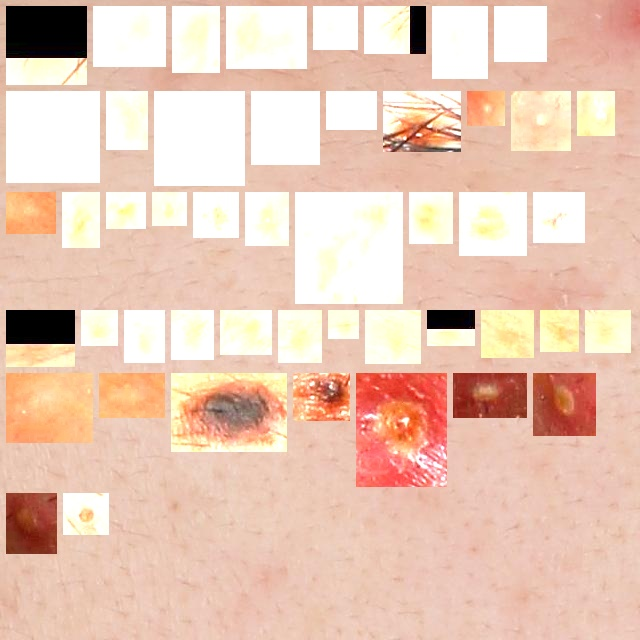hypertrophic_scar: (14, 381, 85, 435), (107, 381, 157, 410), (14, 200, 48, 226)
melasma: (303, 200, 395, 296), (14, 99, 92, 175), (162, 99, 237, 178), (14, 14, 79, 77), (259, 99, 312, 157), (234, 14, 299, 61), (101, 14, 158, 59), (467, 200, 519, 248), (440, 14, 480, 71), (14, 318, 67, 359), (180, 14, 212, 65), (373, 318, 413, 356), (372, 14, 418, 46), (489, 318, 526, 350), (114, 99, 140, 142), (253, 200, 281, 238), (228, 318, 264, 347), (286, 318, 314, 355), (417, 200, 445, 236), (132, 318, 157, 355), (179, 318, 206, 352), (201, 200, 231, 230), (70, 200, 92, 240), (321, 14, 350, 42), (593, 318, 623, 345), (334, 99, 369, 122), (435, 318, 467, 338), (548, 318, 571, 344), (114, 200, 138, 221), (89, 318, 110, 338), (160, 200, 179, 218), (336, 318, 351, 331)
nevus: (179, 381, 279, 444), (391, 99, 453, 144), (301, 381, 342, 413), (541, 200, 577, 235)
pustule: (364, 381, 439, 479), (541, 381, 588, 428), (519, 99, 563, 143), (461, 381, 519, 410), (14, 501, 49, 546), (502, 14, 539, 54), (71, 501, 101, 527), (585, 99, 607, 128), (475, 99, 497, 118)
